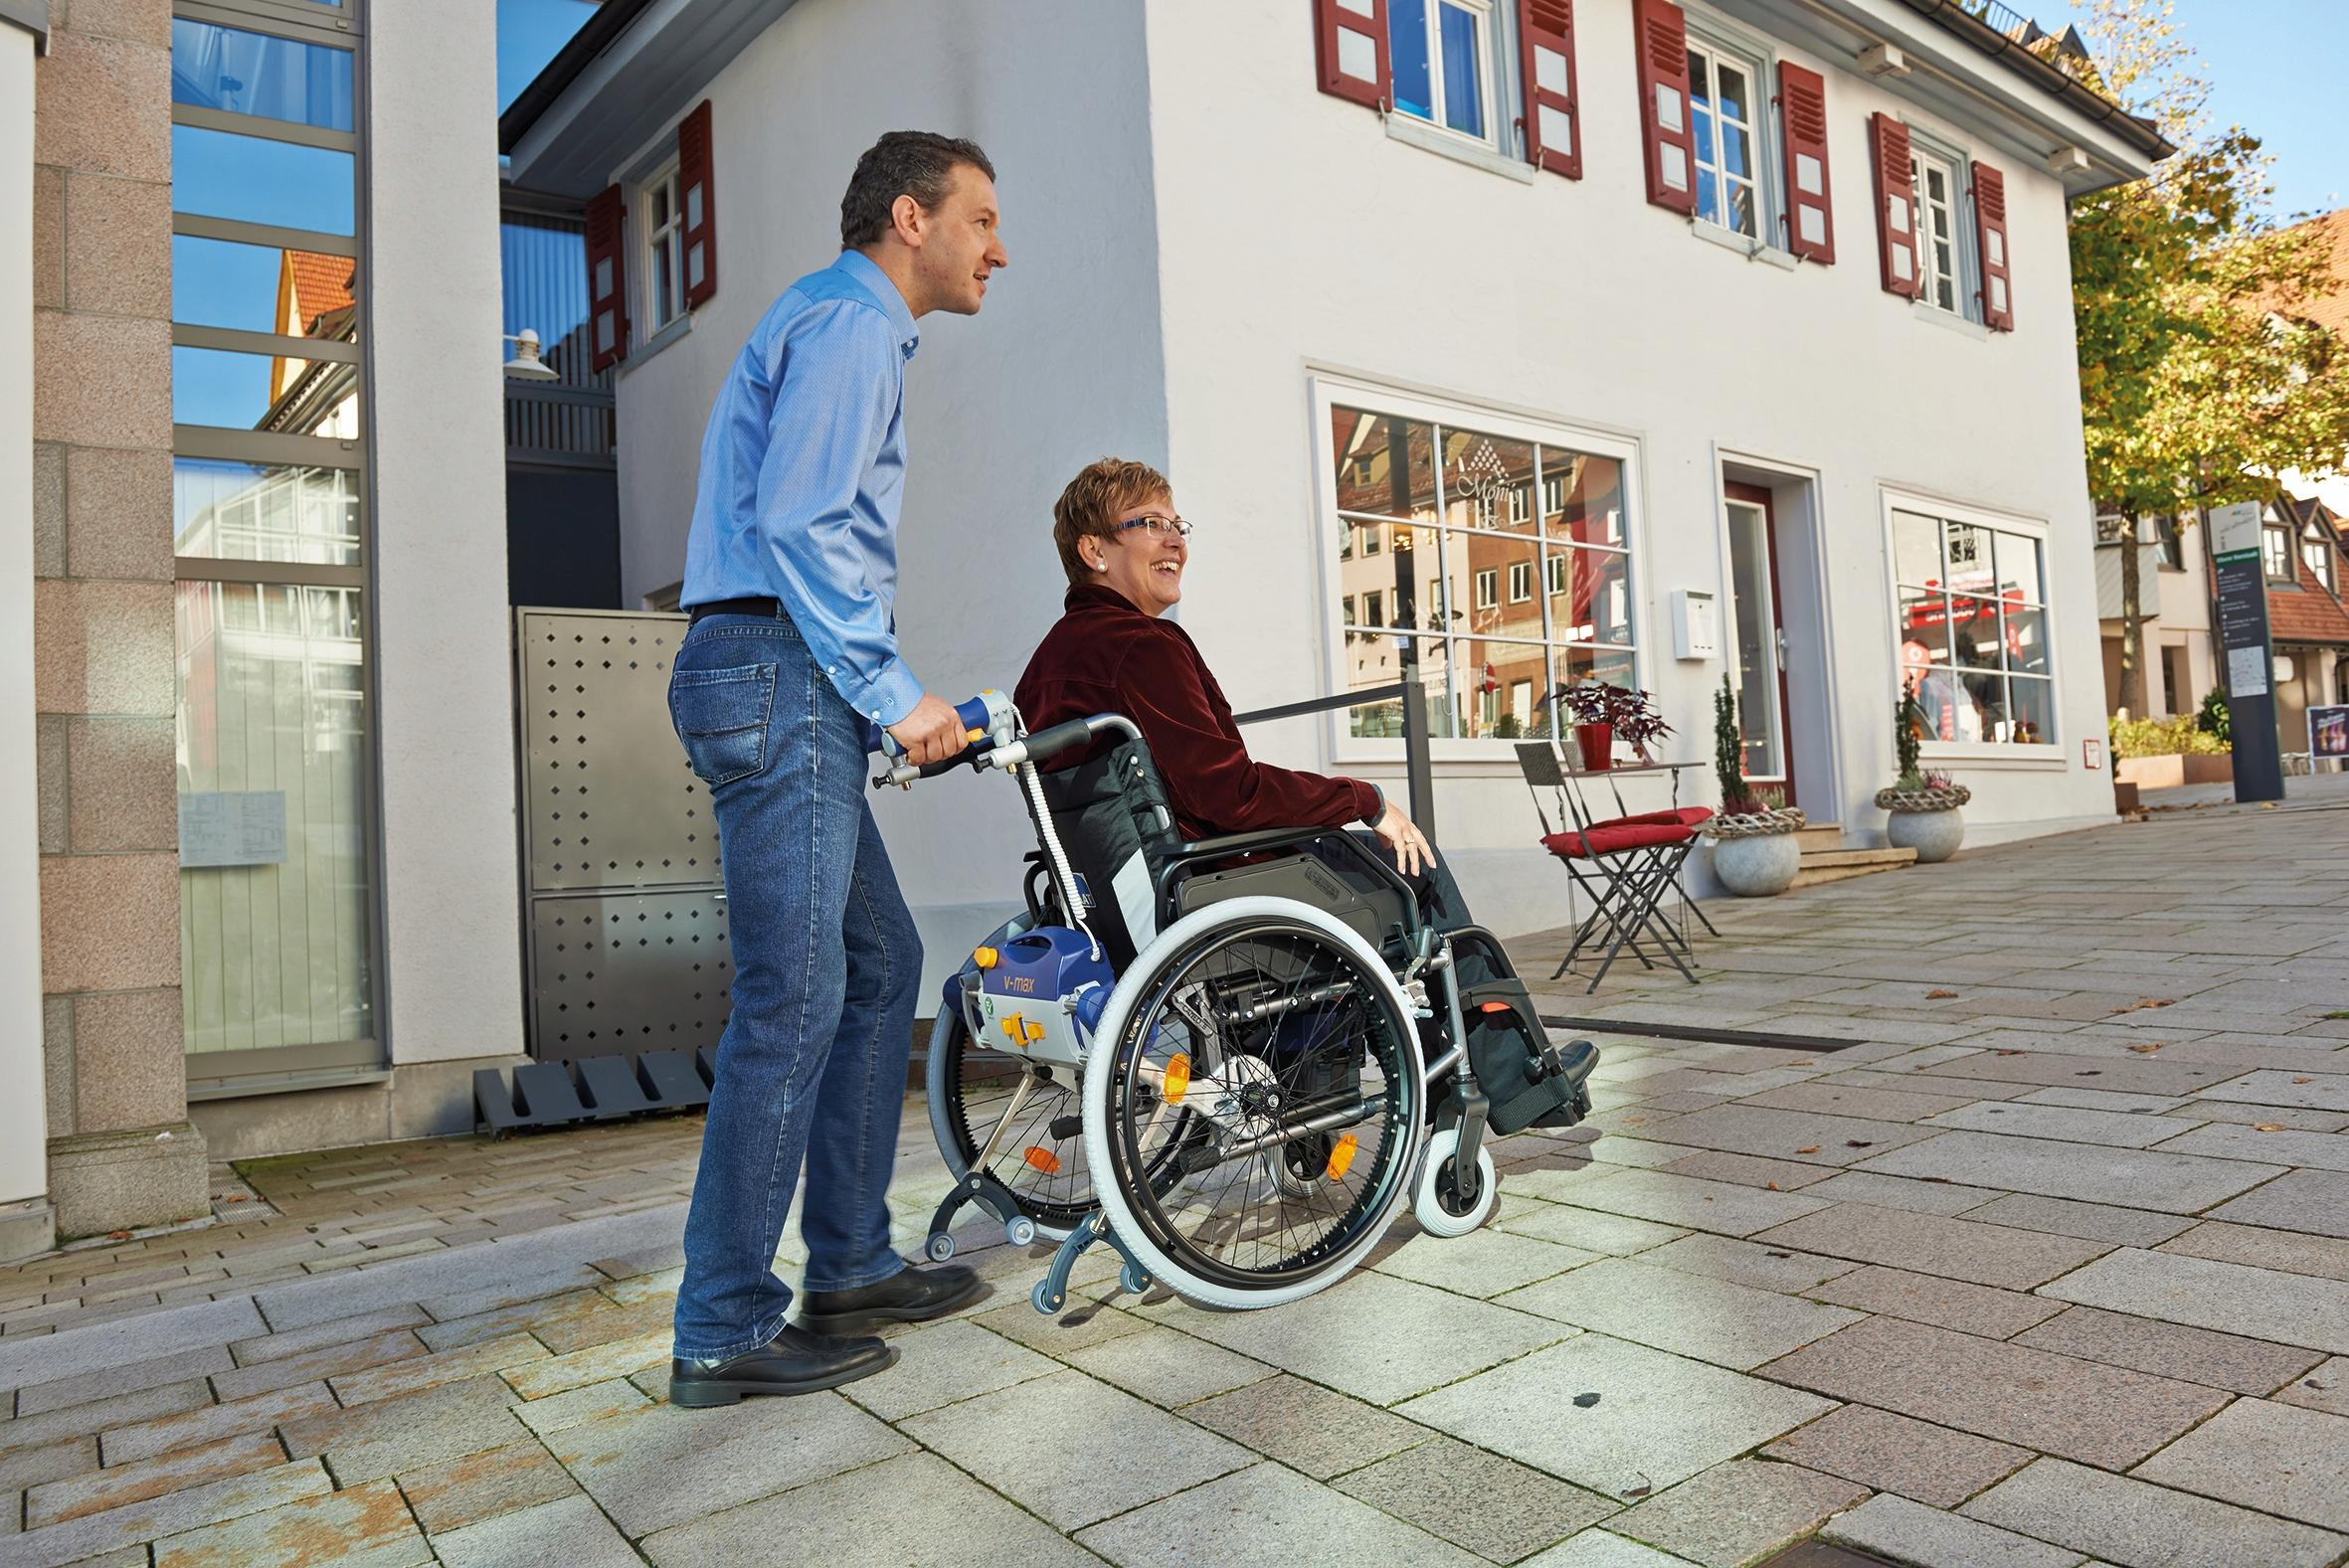push_wheelchair: (670, 129, 1010, 1407)
wheelchair: (880, 457, 1602, 1318)
